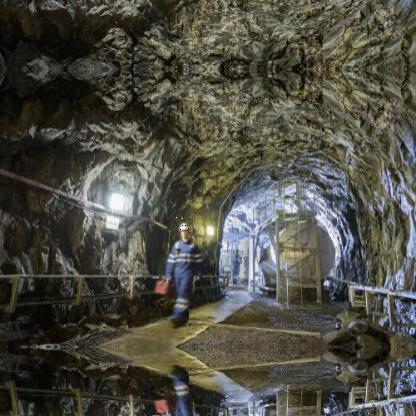safetyhelmet: (174, 218, 193, 236)
